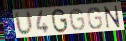4: (36, 9, 50, 36)
G: (51, 8, 69, 34), (69, 8, 86, 32), (86, 6, 103, 30)
N: (103, 5, 122, 30)
U: (13, 10, 34, 37)
